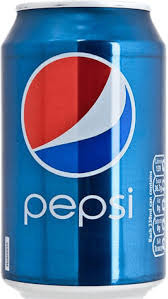pepsi: (1, 2, 164, 295)
